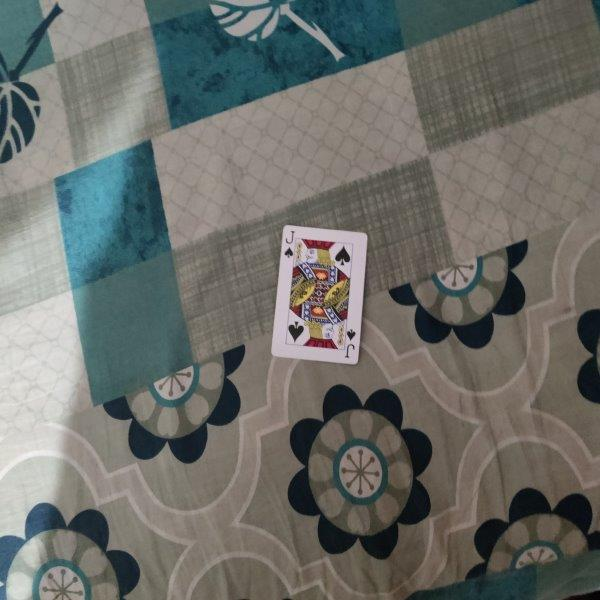Jack of Spades: (270, 224, 368, 367)
